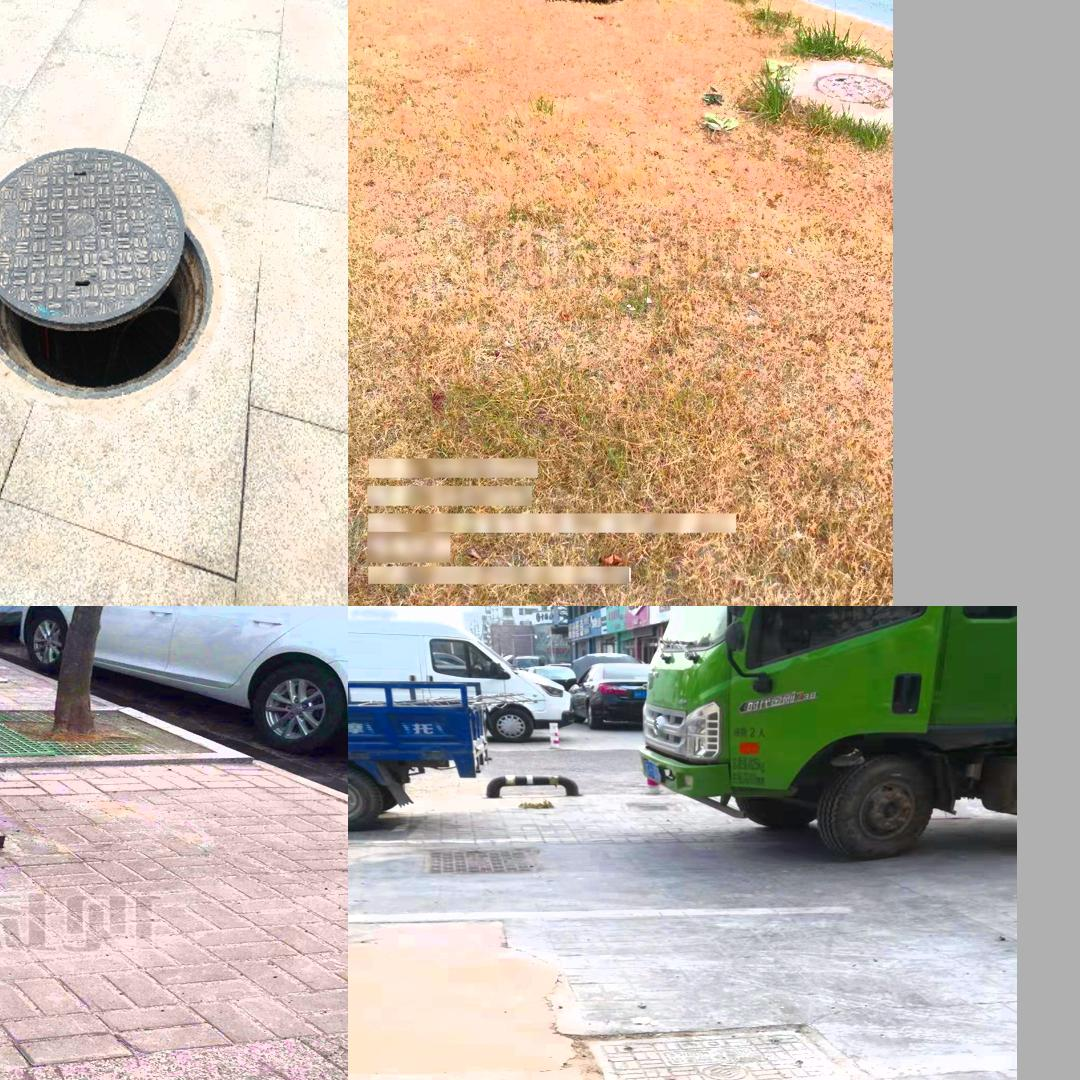uncovered: (0, 146, 213, 400), (578, 1024, 938, 1080), (512, 0, 639, 7), (0, 785, 2, 855)
